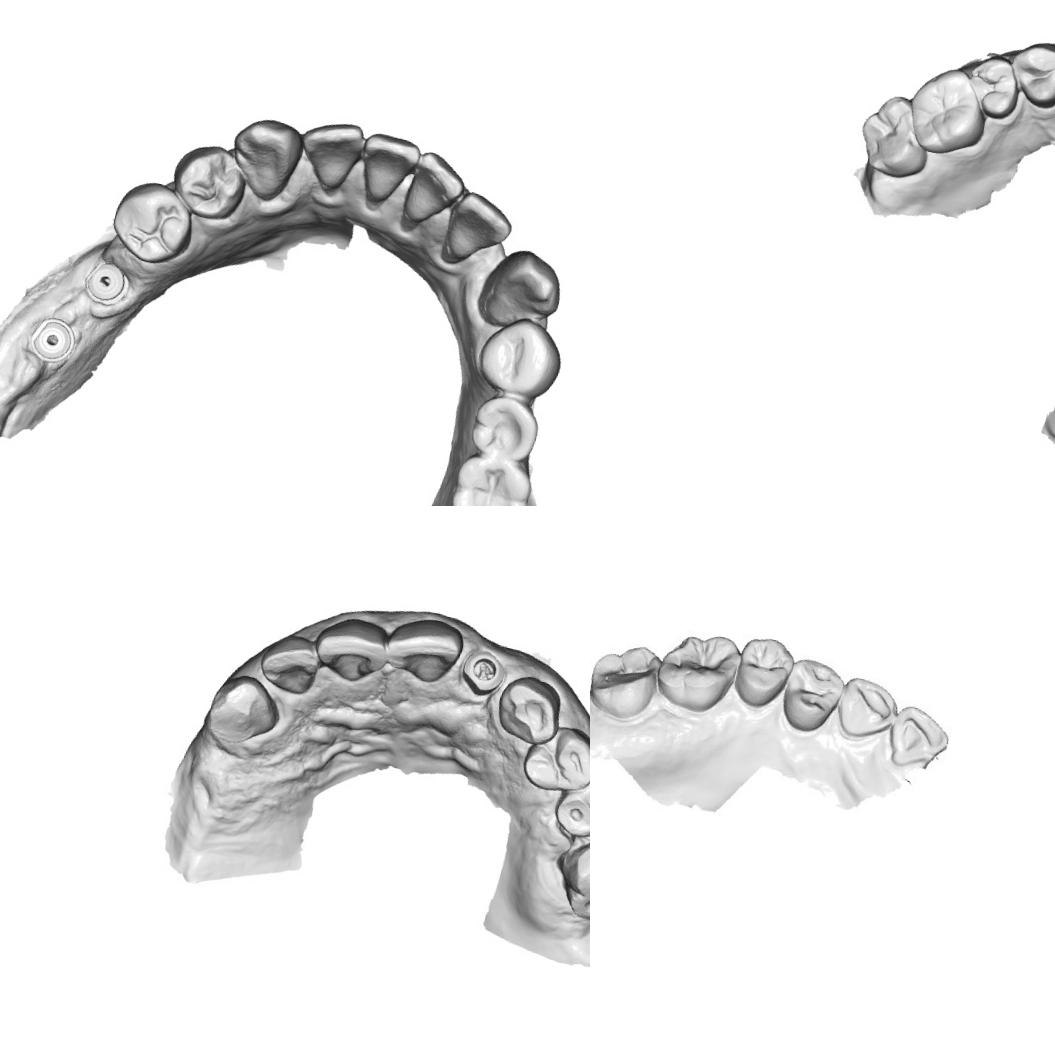canine: (475, 241, 569, 336), (223, 109, 309, 208), (196, 666, 288, 755), (490, 670, 571, 750)
implant: (25, 313, 83, 374), (78, 254, 130, 309), (458, 646, 506, 698)
incisor: (380, 611, 471, 691), (290, 113, 368, 197), (310, 609, 394, 687), (441, 188, 517, 272), (398, 148, 473, 232), (353, 130, 422, 212), (253, 630, 325, 699)
molar: (652, 620, 750, 722), (902, 60, 996, 164), (852, 86, 940, 184), (590, 630, 673, 730), (548, 816, 590, 935), (445, 451, 535, 506)
premolar: (107, 173, 200, 272), (471, 310, 567, 404), (165, 136, 252, 225), (774, 650, 851, 740), (516, 719, 590, 801), (728, 632, 798, 717), (466, 390, 544, 466), (964, 53, 1027, 124), (1003, 36, 1055, 112), (547, 763, 590, 850)
